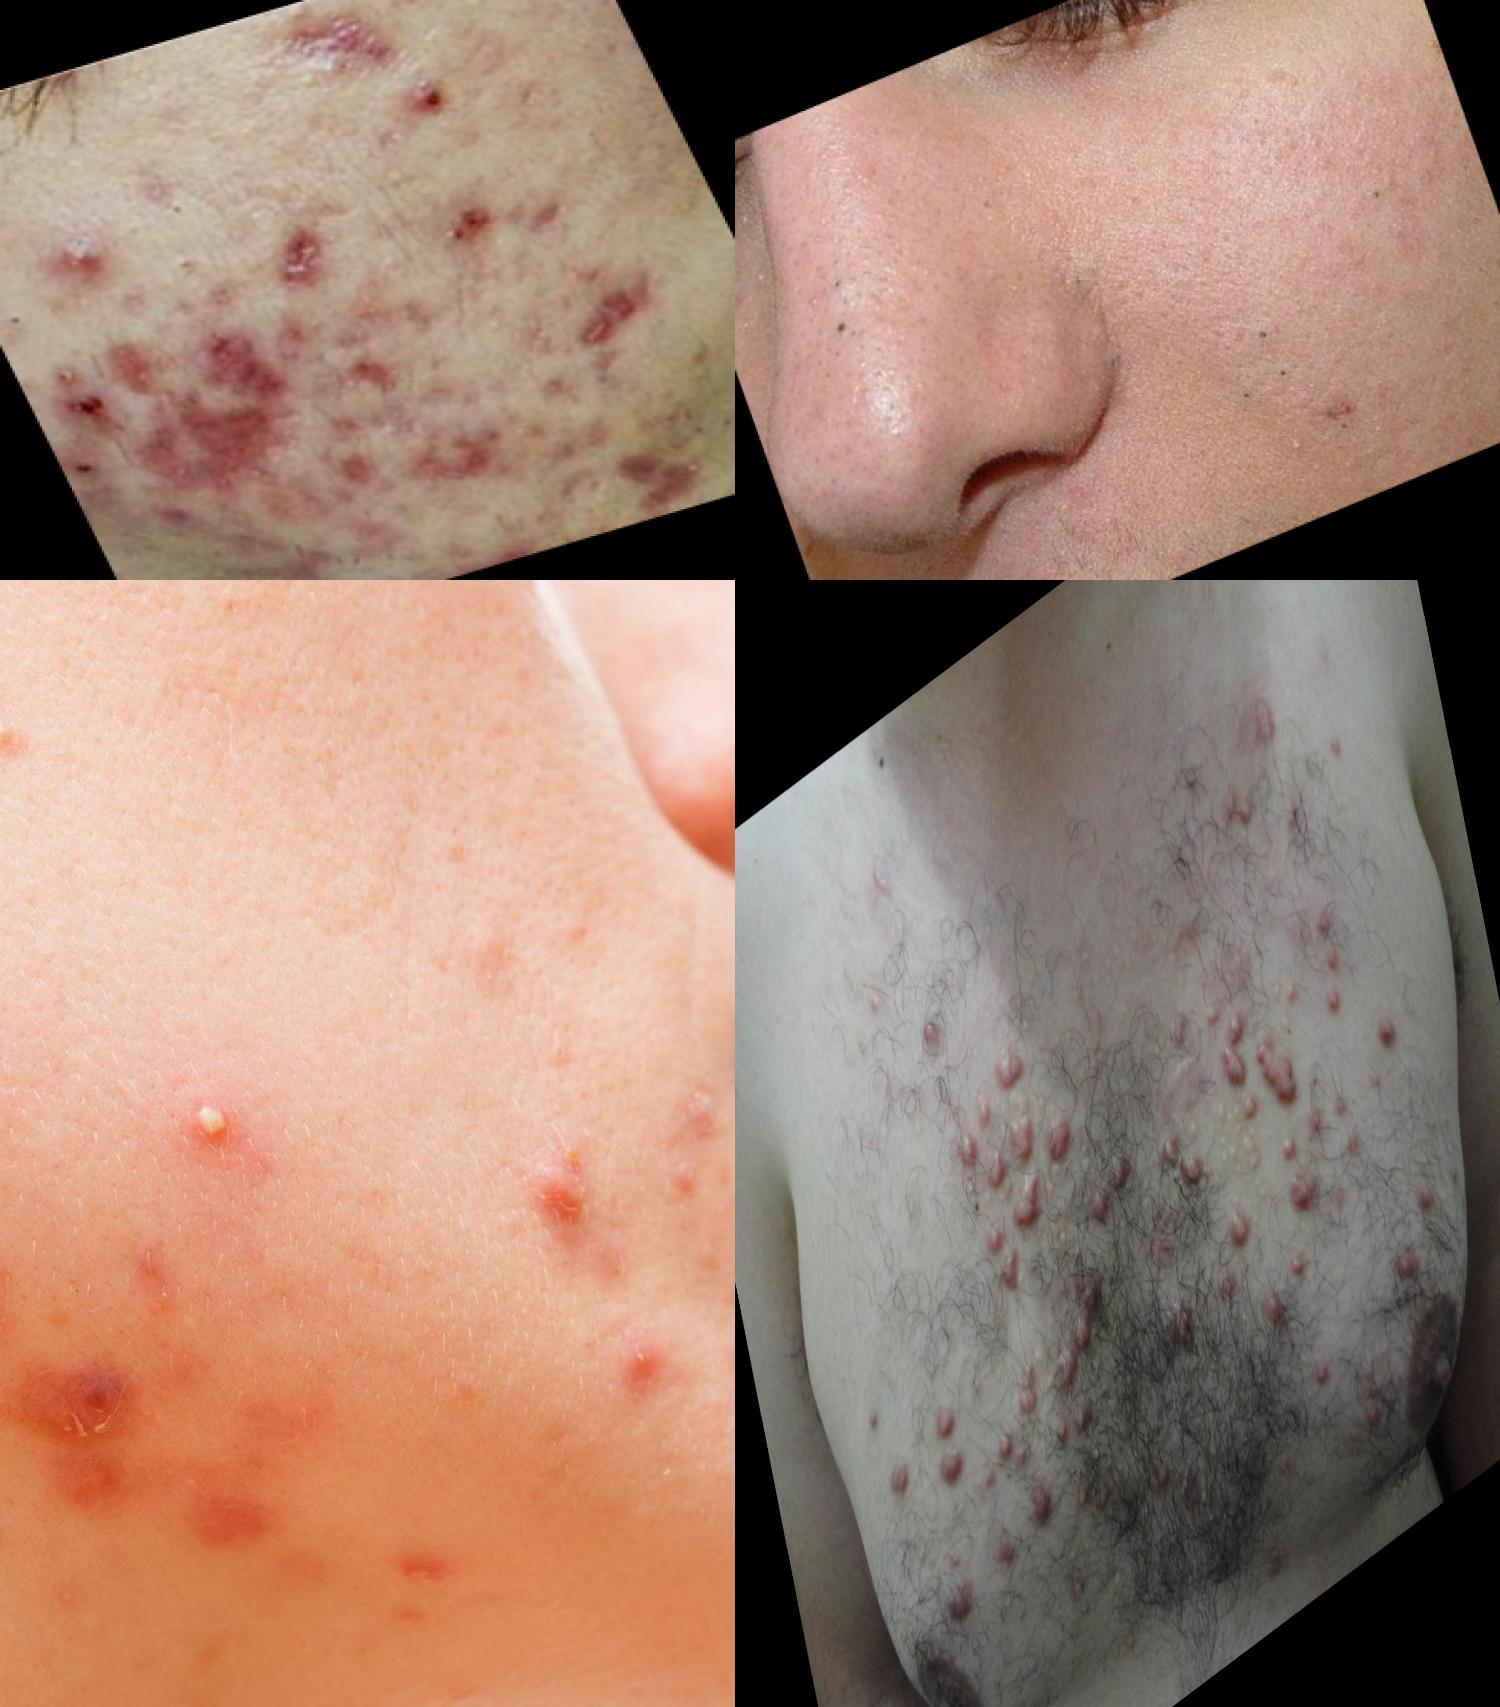acne_scars: (134, 388, 298, 530), (242, 1, 411, 107), (386, 401, 530, 507), (298, 319, 434, 425), (192, 308, 305, 415), (76, 314, 183, 427), (248, 203, 350, 312), (568, 261, 682, 356), (489, 168, 591, 253), (604, 441, 704, 523)
blackhead: (1316, 154, 1419, 266), (1210, 312, 1313, 421), (118, 165, 229, 248), (1076, 329, 1157, 438), (802, 253, 879, 360), (957, 152, 1032, 258), (139, 247, 232, 319), (1035, 251, 1109, 331), (677, 367, 736, 451), (1, 279, 57, 357), (367, 1, 489, 36), (1318, 399, 1377, 454)
keloid: (1037, 1245, 1122, 1407), (945, 1070, 1014, 1219), (1146, 1094, 1214, 1222), (1247, 1012, 1307, 1137), (1252, 1237, 1321, 1343), (1208, 980, 1263, 1105), (1305, 898, 1353, 1026), (926, 1385, 973, 1504), (1080, 1141, 1138, 1232), (979, 1206, 1027, 1311), (1003, 1155, 1053, 1247), (990, 1407, 1040, 1497), (1279, 1154, 1327, 1232), (987, 1028, 1032, 1105), (1365, 994, 1407, 1076), (1040, 1100, 1079, 1179), (1003, 1093, 1041, 1168), (1387, 1231, 1427, 1301), (1012, 1348, 1047, 1422), (1223, 1200, 1255, 1261)
milium: (1271, 424, 1316, 472)
papular: (1, 1322, 232, 1501), (489, 1131, 646, 1296)
purulent: (78, 1015, 350, 1248)
